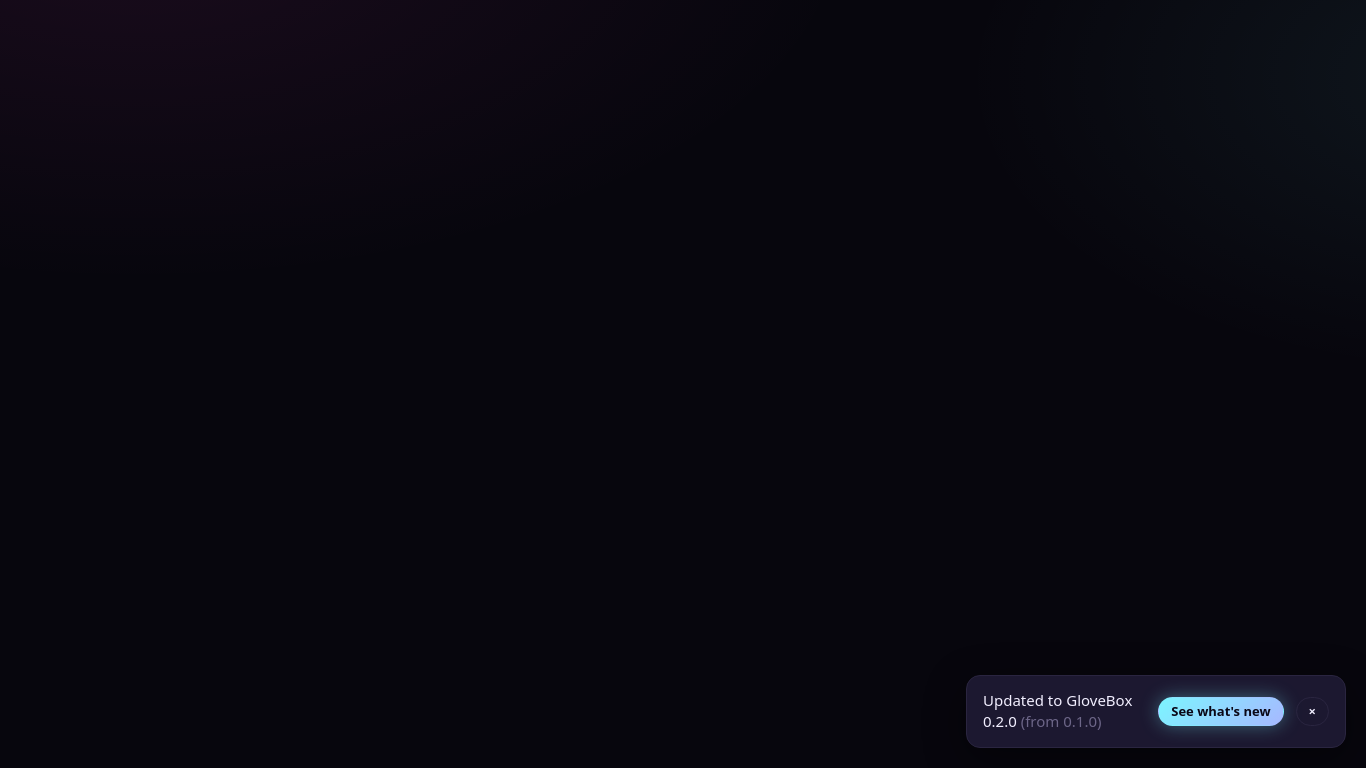
the updated notice › can be dismissed; the first launch ever shows nothing
This screenshot has width=1366, height=768.
Click the button named "Dismiss" at (1312, 711), box x1=1296 y1=697 x2=1329 y2=726
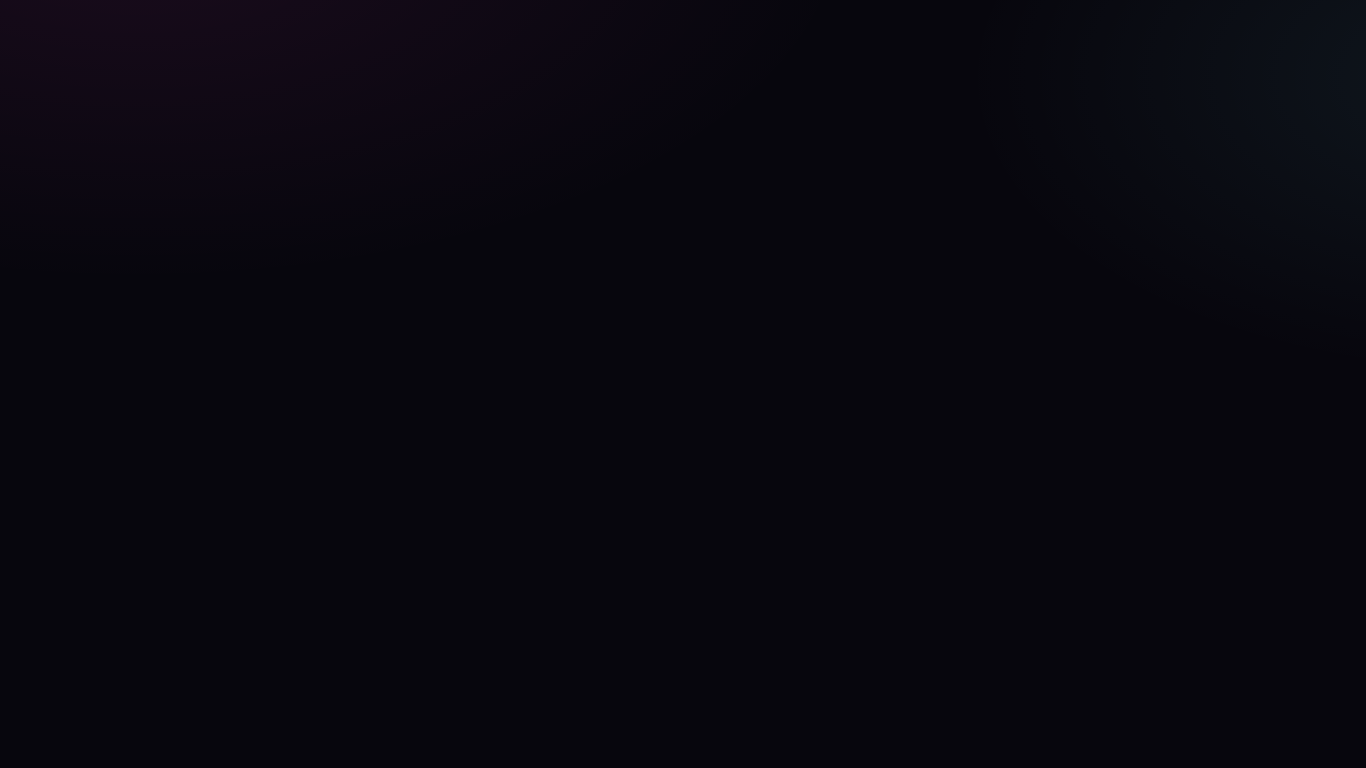
Expected: the message "Updated to GloveBox 0.2.0(from 0.1.0) See what's new ×" is gone
